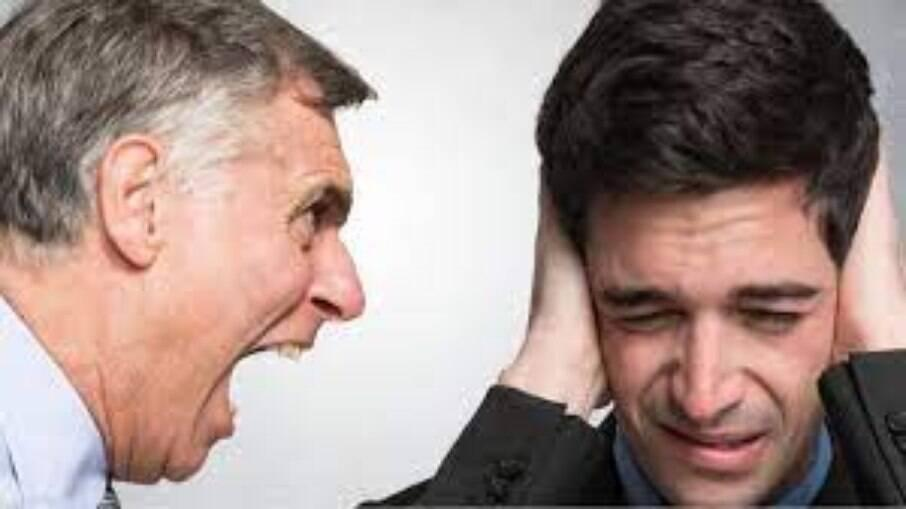raiva: (167, 126, 378, 488)
triste: (580, 227, 832, 509)
